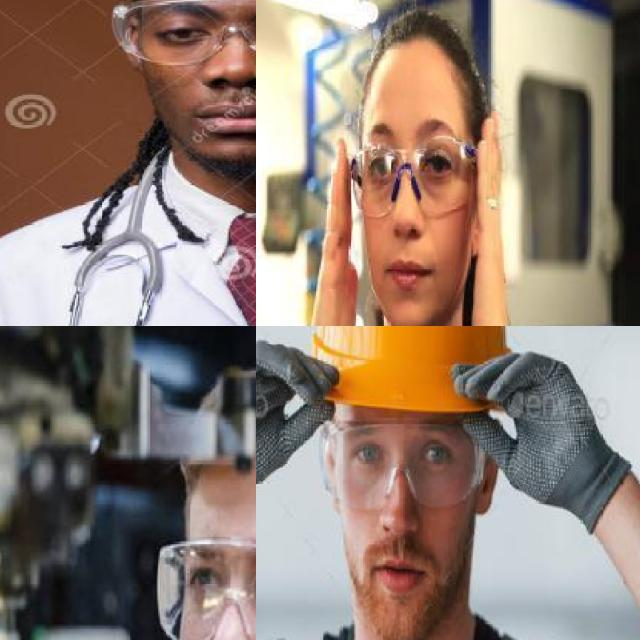face_mask: (314, 414, 490, 508)
face_nomask: (344, 435, 464, 606), (143, 2, 256, 150), (359, 150, 464, 306), (178, 539, 256, 640)
glasses: (346, 133, 479, 225), (155, 536, 256, 640), (111, 0, 256, 67)
hand_glove: (446, 340, 612, 524), (256, 339, 341, 502)
hand_noglove: (465, 116, 517, 326), (315, 129, 362, 326)
head_helmet: (256, 326, 640, 640), (305, 326, 516, 416)
head_nohelmet: (358, 6, 487, 105), (170, 354, 256, 499)
person: (266, 11, 588, 326), (0, 0, 256, 326), (97, 363, 256, 640)
